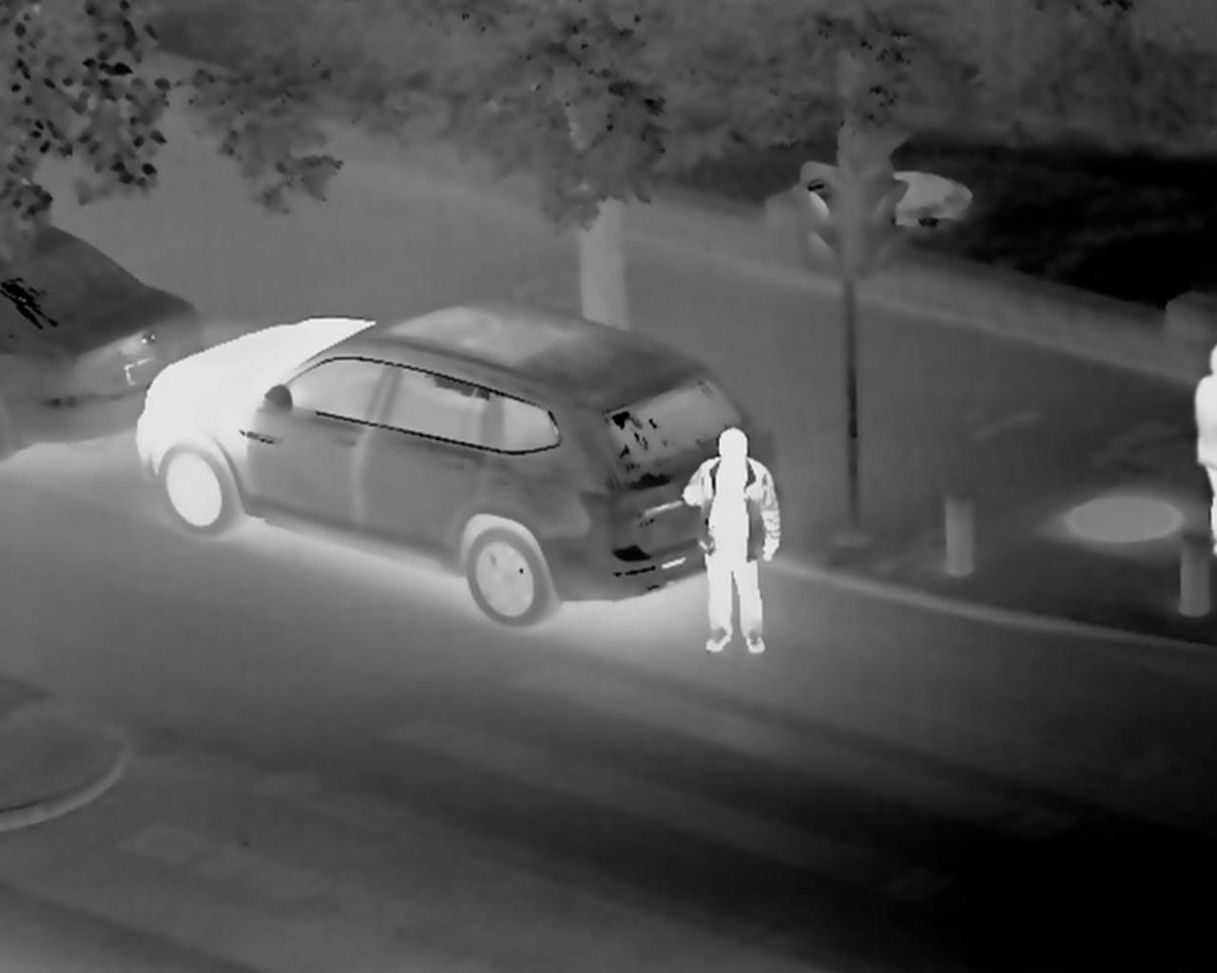person: (695, 436, 792, 646)
